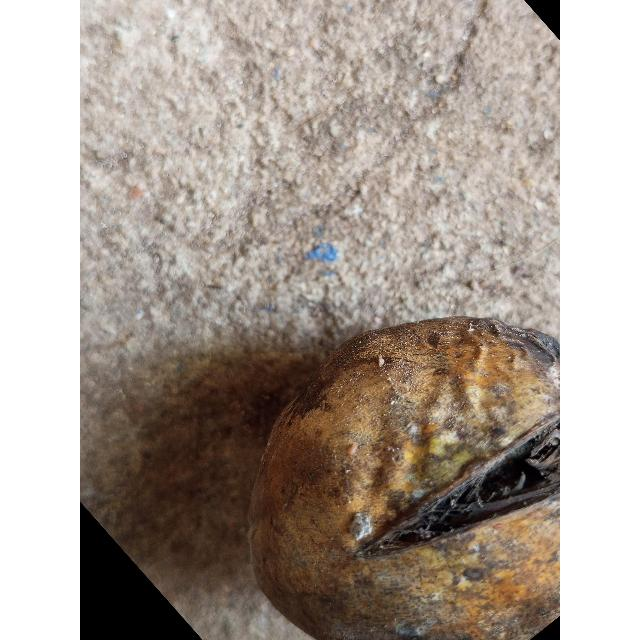damaged: (246, 317, 560, 640)
